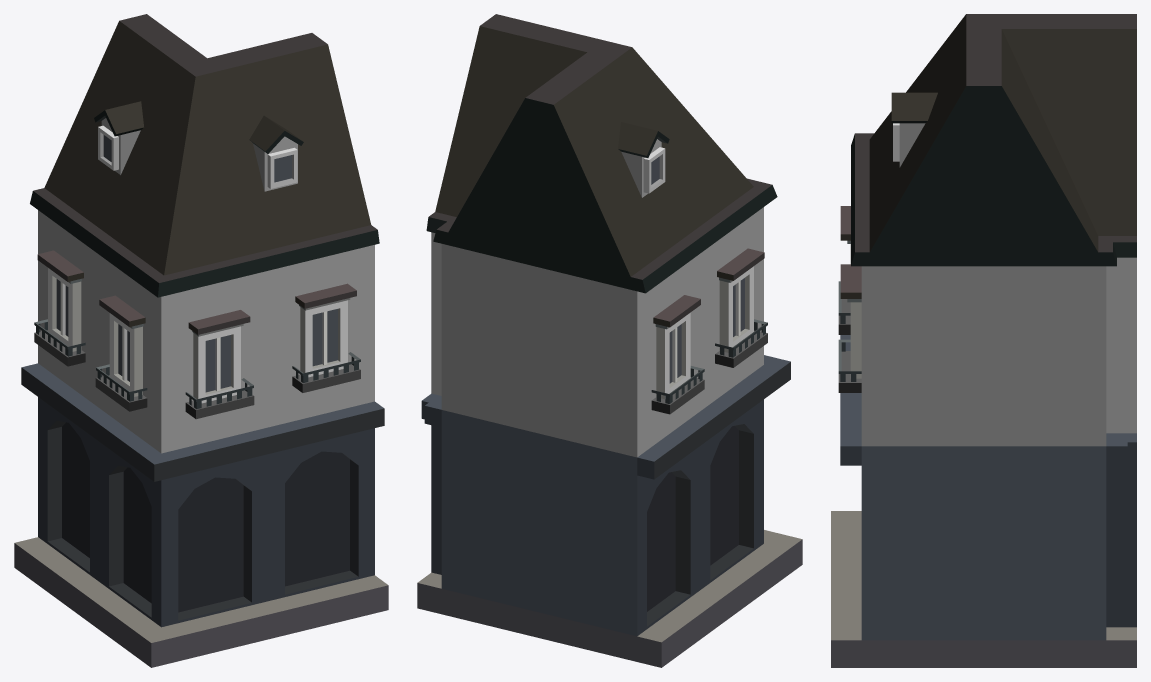
The model's file is TB_CITY_BD_N_Corner_2_D.FBX.
The picture shows the model from 3 angles, left to right: view 1: azimuth 30°, elevation 25°; view 2: azimuth 150°, elevation 25°; view 3: azimuth 270°, elevation 25°; orthographic projection. The views are drawn at different scales.
Visible parts, largest first — view 1: TB_CITY_BD_N_Corner_2_D; view 2: TB_CITY_BD_N_Corner_2_D; view 3: TB_CITY_BD_N_Corner_2_D.
Part boxes in pixels (<box>): TB_CITY_BD_N_Corner_2_D: <box>14,14,388,667</box>; TB_CITY_BD_N_Corner_2_D: <box>417,14,802,667</box>; TB_CITY_BD_N_Corner_2_D: <box>831,14,1136,667</box>.
Size of the model in its own units: 7.99 by 16.78 by 7.99.
